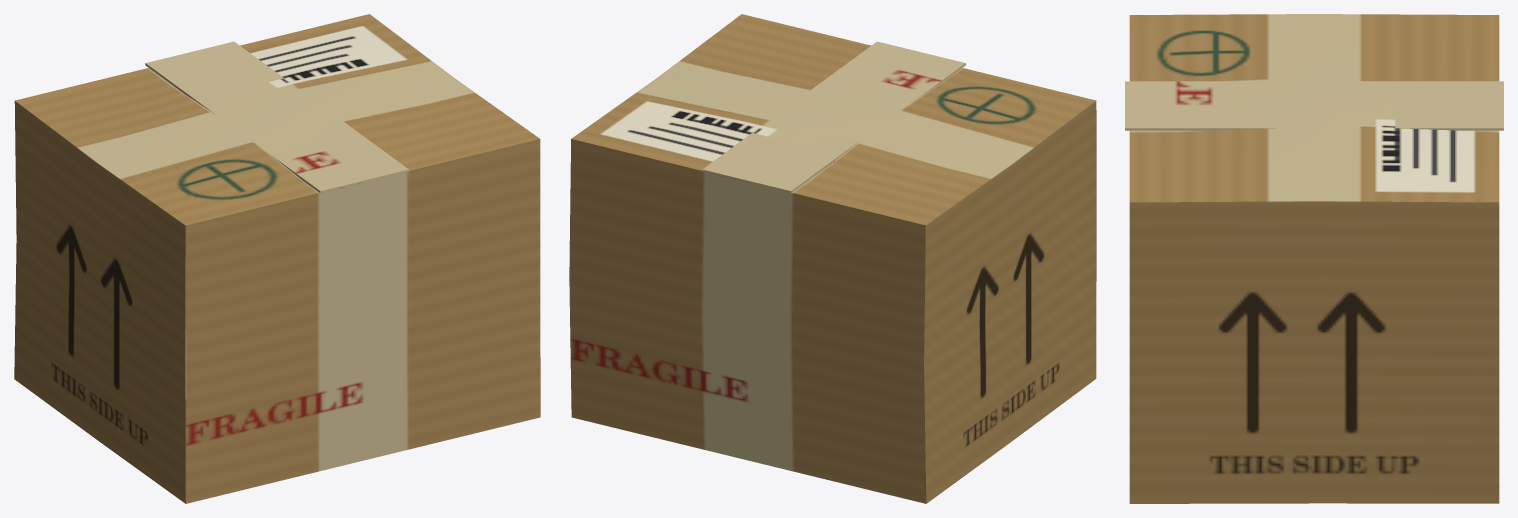
The model's file is parcel.obj.
3 renders of one model, left to right at view 1: azimuth 30°, elevation 25°; view 2: azimuth 150°, elevation 25°; view 3: azimuth 270°, elevation 25°, orthographic. The views are drawn at different scales.
Visible parts, largest first — view 1: parcel_0_surface; view 2: parcel_0_surface; view 3: parcel_0_surface.
Part boxes in pixels (box(x1,y1,x2,y2)): parcel_0_surface: box(14, 14, 540, 503); parcel_0_surface: box(569, 14, 1096, 503); parcel_0_surface: box(1125, 14, 1503, 503).
Bounding box in the file's own units: 0.2426 × 0.184 × 0.205.
1 material, 1 textured.
